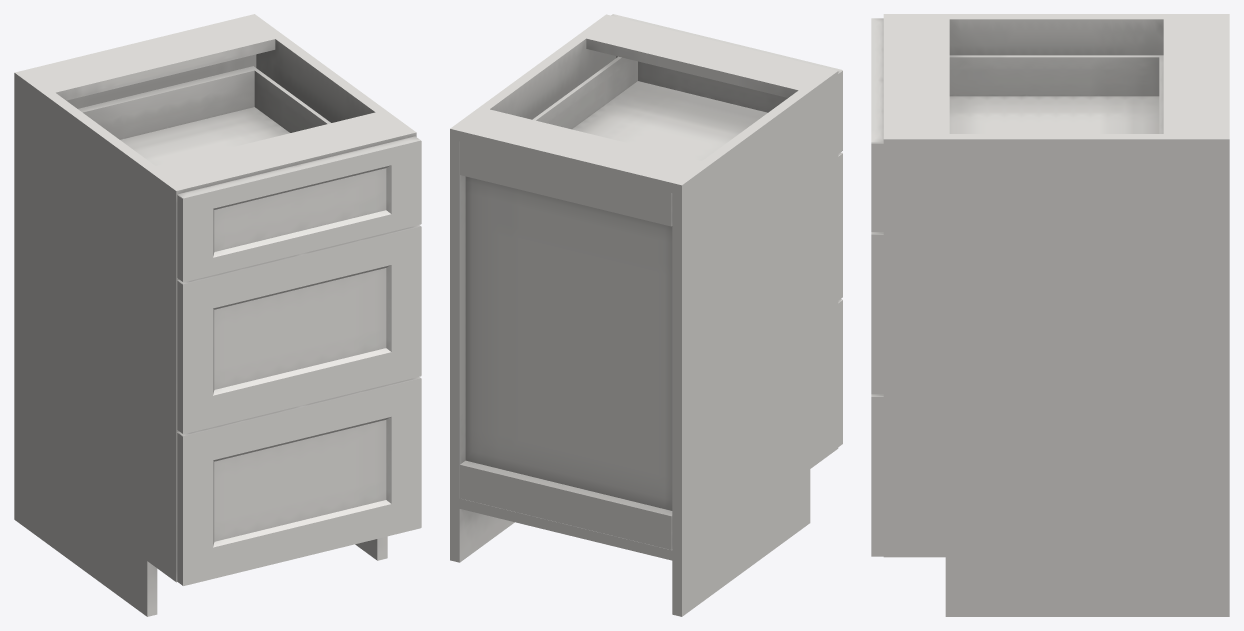
The model's file is 3-drawer-vanity-doors-on.glb.
3 renders of one model, left to right at view 1: azimuth 30°, elevation 25°; view 2: azimuth 150°, elevation 25°; view 3: azimuth 270°, elevation 25°, orthographic. The views are drawn at different scales.
Parts seen in each view (by area): view 1: part_8, part_4, part_0; view 2: part_8, part_0, part_4; view 3: part_8, part_0, part_4.
Part boxes in pixels (x1=…): part_8: x1=14, y1=14, x2=416, y2=616; part_4: x1=177, y1=136, x2=421, y2=585; part_0: x1=78, y1=66, x2=330, y2=165; part_8: x1=450, y1=14, x2=838, y2=616; part_0: x1=532, y1=56, x2=767, y2=160; part_4: x1=611, y1=14, x2=842, y2=446; part_8: x1=883, y1=14, x2=1229, y2=616; part_0: x1=949, y1=55, x2=1163, y2=133; part_4: x1=871, y1=18, x2=883, y2=556.
Bounding box in the file's own units: 0.4572 × 0.8128 × 0.5525.
3 materials, 2 textured.
